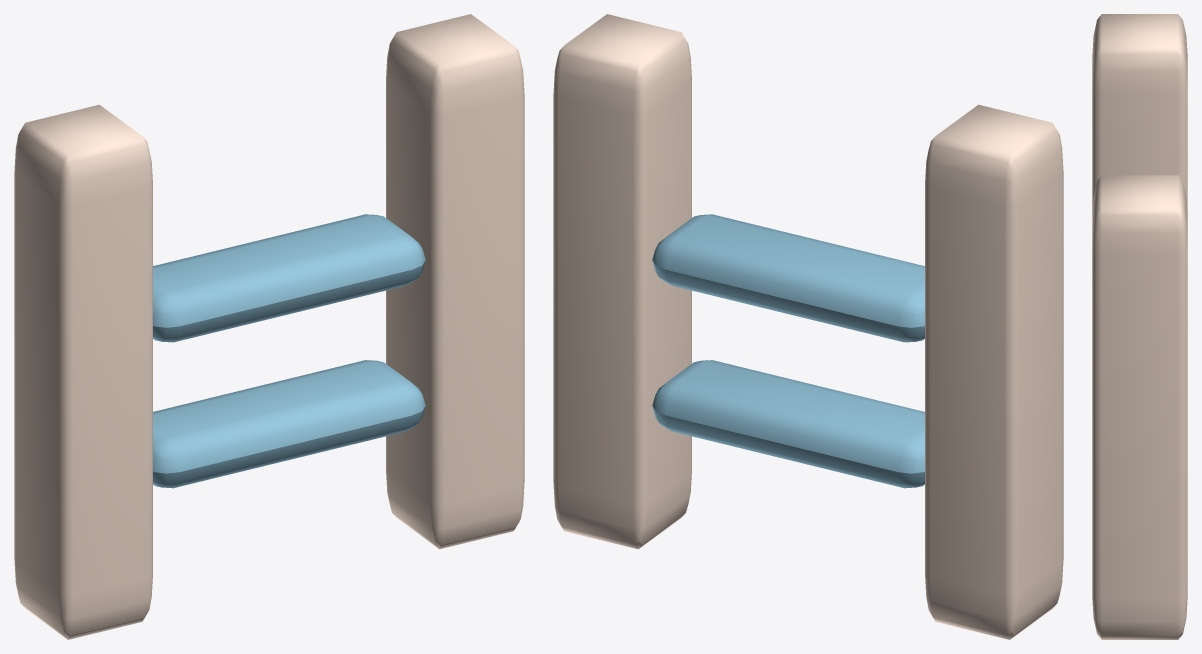
File: Props_Conveyor_Blue_Holder_02.fbx
The picture shows the model from 3 angles, left to right: view 1: azimuth 30°, elevation 25°; view 2: azimuth 150°, elevation 25°; view 3: azimuth 270°, elevation 25°; orthographic projection. The views are drawn at different scales.
Visible parts, largest first — view 1: Props_Conveyor_Blue_Holder_02; view 2: Props_Conveyor_Blue_Holder_02; view 3: Props_Conveyor_Blue_Holder_02.
Boxes of the visible parts, left/top/right/bottom form: Props_Conveyor_Blue_Holder_02: left=14, top=14, right=524, bottom=639; Props_Conveyor_Blue_Holder_02: left=553, top=14, right=1063, bottom=639; Props_Conveyor_Blue_Holder_02: left=1092, top=14, right=1187, bottom=639.
Bounding box in the file's own units: 50 × 50 × 10.
